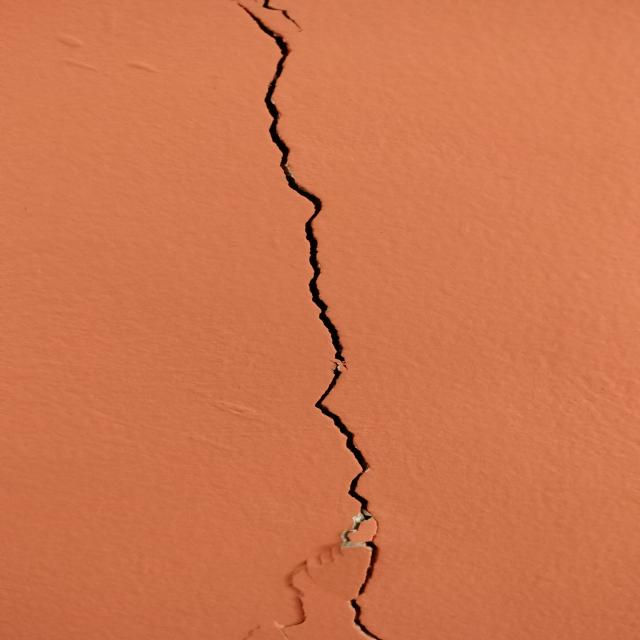Crack: (224, 3, 402, 635)
